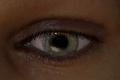eye: (42, 33, 78, 55)
